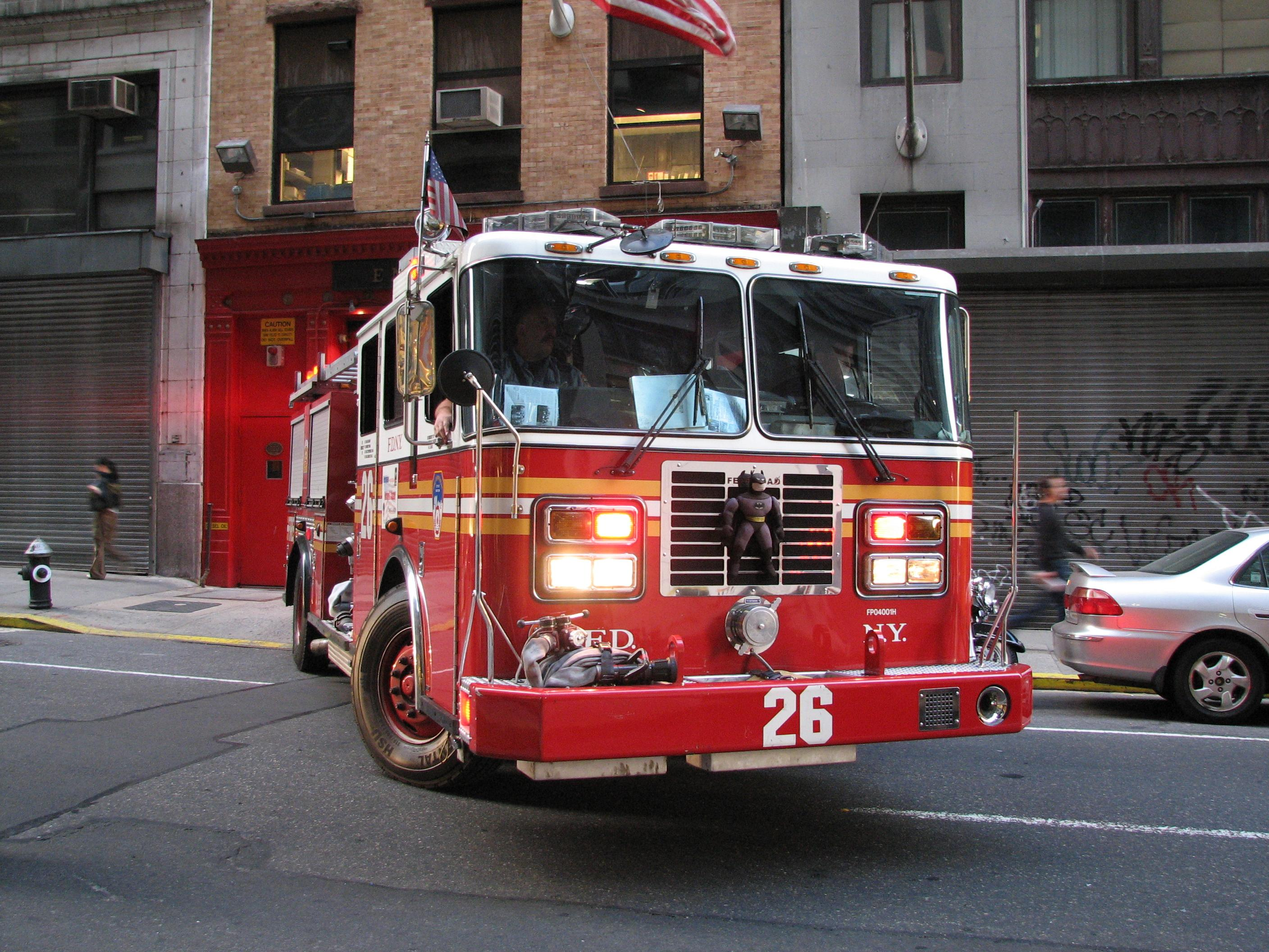Fire-engine: (282, 205, 1033, 791)
